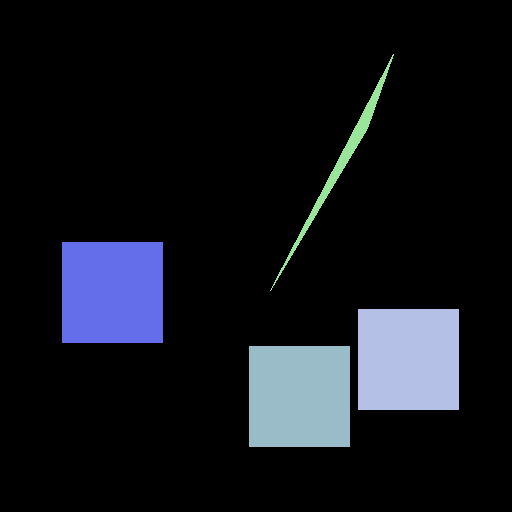square: (249, 346, 349, 446), (358, 309, 458, 409), (62, 242, 162, 342)
